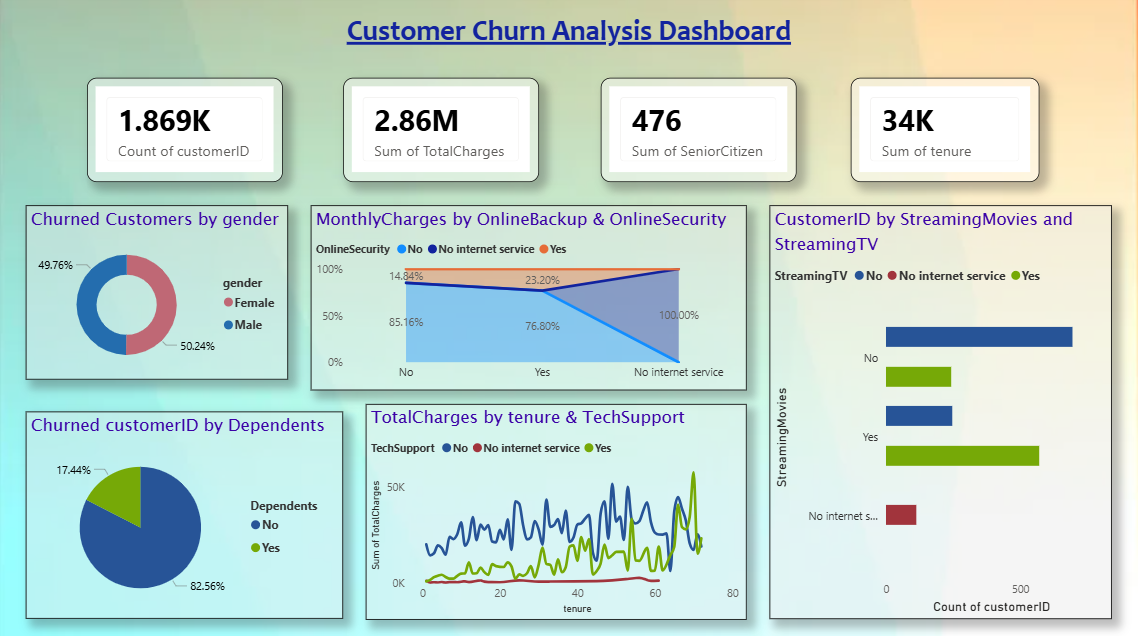

Layout of this report page (visuals, bound fields, positions):
{"tool":"powerbi","page":{"name":"Page 1","canvas":[1280,720],"ordinal":0},"visuals":[{"type":"cardVisual","fields":{"Data":["Count(WA_Fn-UseC_-Telco-Customer-Chur.customerID)"]},"box":[100.2,93.3,219.6,116.6],"z":0},{"type":"textbox","box":[0,16.8,1280.3,54.6],"z":1000},{"type":"cardVisual","fields":{"Data":["Sum(WA_Fn-UseC_-Telco-Customer-Chur.TotalCharges)"]},"box":[387,93.3,219.6,116.6],"z":2000},{"type":"cardVisual","fields":{"Data":["Sum(WA_Fn-UseC_-Telco-Customer-Chur.SeniorCitizen)"]},"box":[675.1,93.3,219.6,116.6],"z":3000},{"type":"cardVisual","fields":{"Data":["Sum(WA_Fn-UseC_-Telco-Customer-Chur.tenure)"]},"box":[955.1,93.3,211.3,116.6],"z":4000},{"type":"donutChart","title":"Churned Customers by gender","fields":{"Category":["WA_Fn-UseC_-Telco-Customer-Chur.gender"],"Y":["CountNonNull(WA_Fn-UseC_-Telco-Customer-Chur.customerID)"]},"box":[31.6,236,293.7,194.9],"z":5000},{"type":"pieChart","title":"Churned customerID by Dependents","fields":{"Y":["CountNonNull(WA_Fn-UseC_-Telco-Customer-Chur.customerID)"],"Category":["WA_Fn-UseC_-Telco-Customer-Chur.Dependents"]},"box":[31.6,467.9,355.4,231.9],"z":6000},{"type":"lineChart","title":"TotalCharges by tenure & TechSupport","fields":{"Category":["WA_Fn-UseC_-Telco-Customer-Chur.tenure"],"Series":["WA_Fn-UseC_-Telco-Customer-Chur.TechSupport"],"Y":["Sum(WA_Fn-UseC_-Telco-Customer-Chur.TotalCharges)"]},"box":[413,458.3,426.8,241.5],"z":7000},{"type":"clusteredBarChart","title":"CustomerID by StreamingMovies and StreamingTV","fields":{"Category":["WA_Fn-UseC_-Telco-Customer-Chur.StreamingMovies"],"Y":["CountNonNull(WA_Fn-UseC_-Telco-Customer-Chur.customerID)"],"Series":["WA_Fn-UseC_-Telco-Customer-Chur.StreamingTV"]},"box":[864.7,236.5,383.4,463.1],"z":8000},{"type":"hundredPercentStackedAreaChart","title":"MonthlyCharges by OnlineBackup & OnlineSecurity","fields":{"Category":["WA_Fn-UseC_-Telco-Customer-Chur.OnlineBackup"],"Y":["Sum(WA_Fn-UseC_-Telco-Customer-Chur.MonthlyCharges)"],"Series":["WA_Fn-UseC_-Telco-Customer-Chur.OnlineSecurity"]},"box":[351.2,236.5,488.3,207.1],"z":9000}]}

Visuals, with their boxes in screenshot pixels (x1, y1, x2, y2), scaled from the page's 1280x720 canvas onto the 1138x636 screenshot:
cardVisual - Count(WA_Fn-UseC_-Telco-Customer-Chur.customerID): (left=89, top=82, right=284, bottom=185)
textbox: (left=0, top=15, right=1137, bottom=63)
cardVisual - Sum(WA_Fn-UseC_-Telco-Customer-Chur.TotalCharges): (left=344, top=82, right=539, bottom=185)
cardVisual - Sum(WA_Fn-UseC_-Telco-Customer-Chur.SeniorCitizen): (left=600, top=82, right=795, bottom=185)
cardVisual - Sum(WA_Fn-UseC_-Telco-Customer-Chur.tenure): (left=849, top=82, right=1037, bottom=185)
"Churned Customers by gender" donutChart: (left=28, top=208, right=289, bottom=381)
"Churned customerID by Dependents" pieChart: (left=28, top=413, right=344, bottom=618)
"TotalCharges by tenure & TechSupport" lineChart: (left=367, top=405, right=747, bottom=618)
"CustomerID by StreamingMovies and StreamingTV" clusteredBarChart: (left=769, top=209, right=1110, bottom=618)
"MonthlyCharges by OnlineBackup & OnlineSecurity" hundredPercentStackedAreaChart: (left=312, top=209, right=746, bottom=392)
